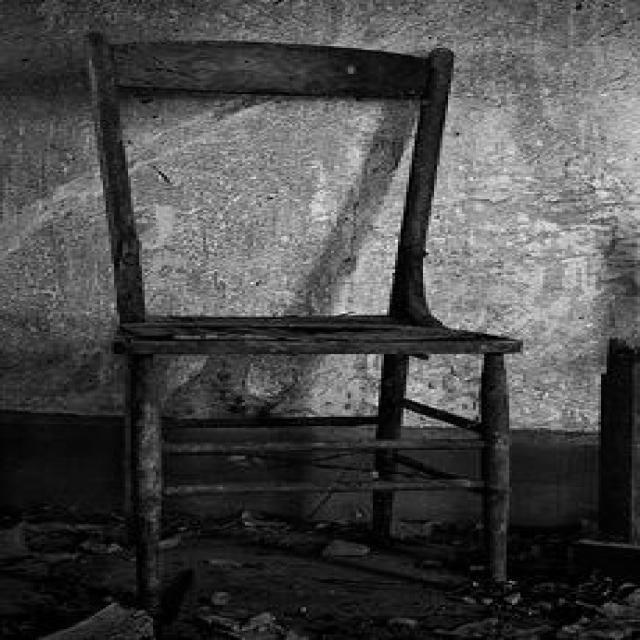chair: (82, 32, 524, 603)
